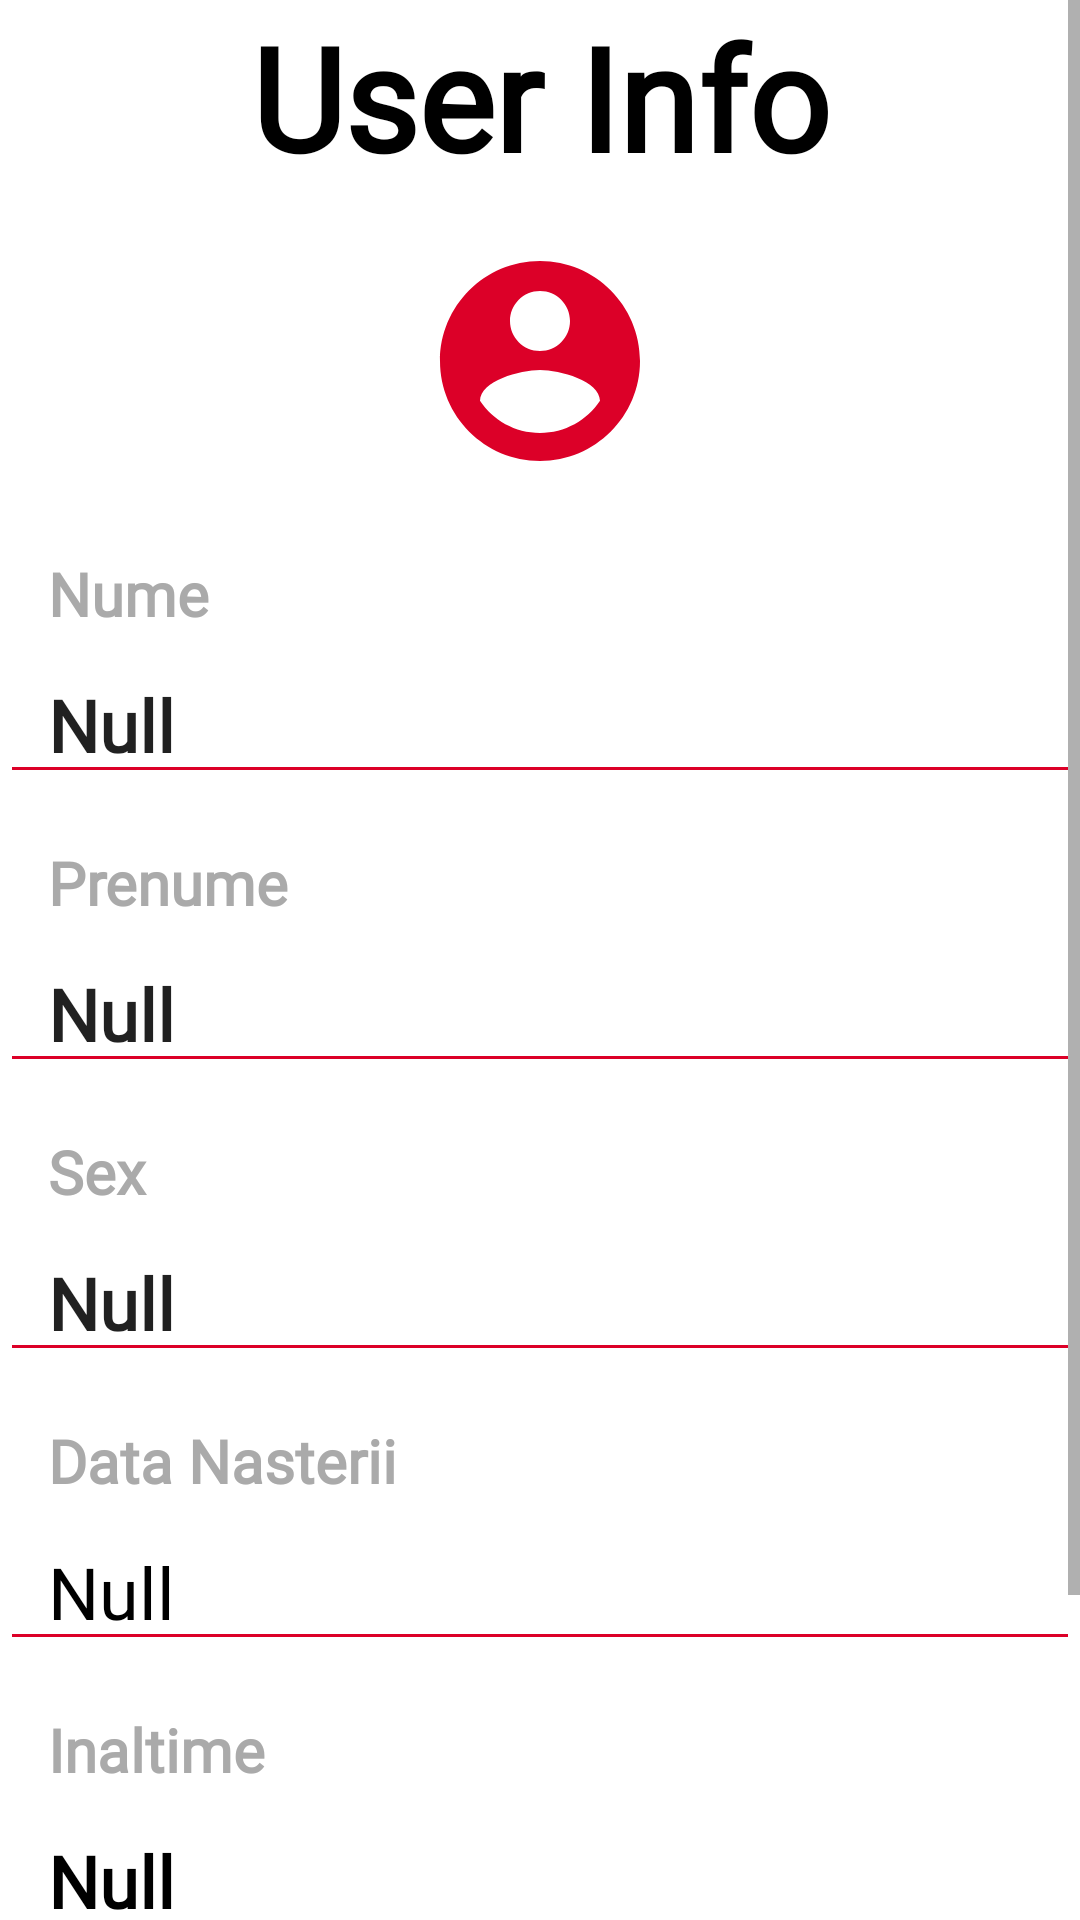

Where to tap for icons on this 1080w x 1920h app screen, as point (x, y):
account circle: point (539, 361)
